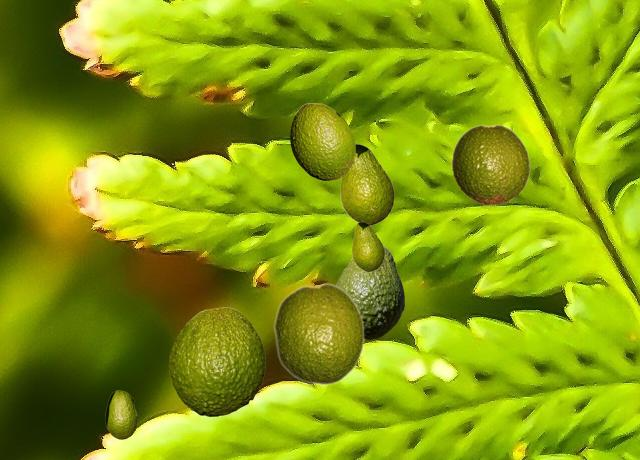avocado: (169, 307, 264, 415), (273, 282, 364, 385), (451, 124, 530, 204), (336, 246, 403, 338), (290, 103, 354, 179), (340, 144, 393, 224), (352, 222, 383, 270), (105, 390, 136, 438)
